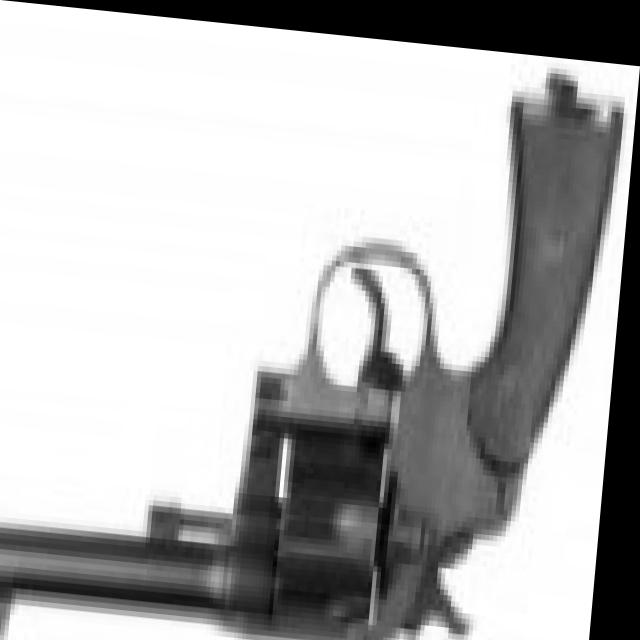handgun: (0, 43, 621, 640)
